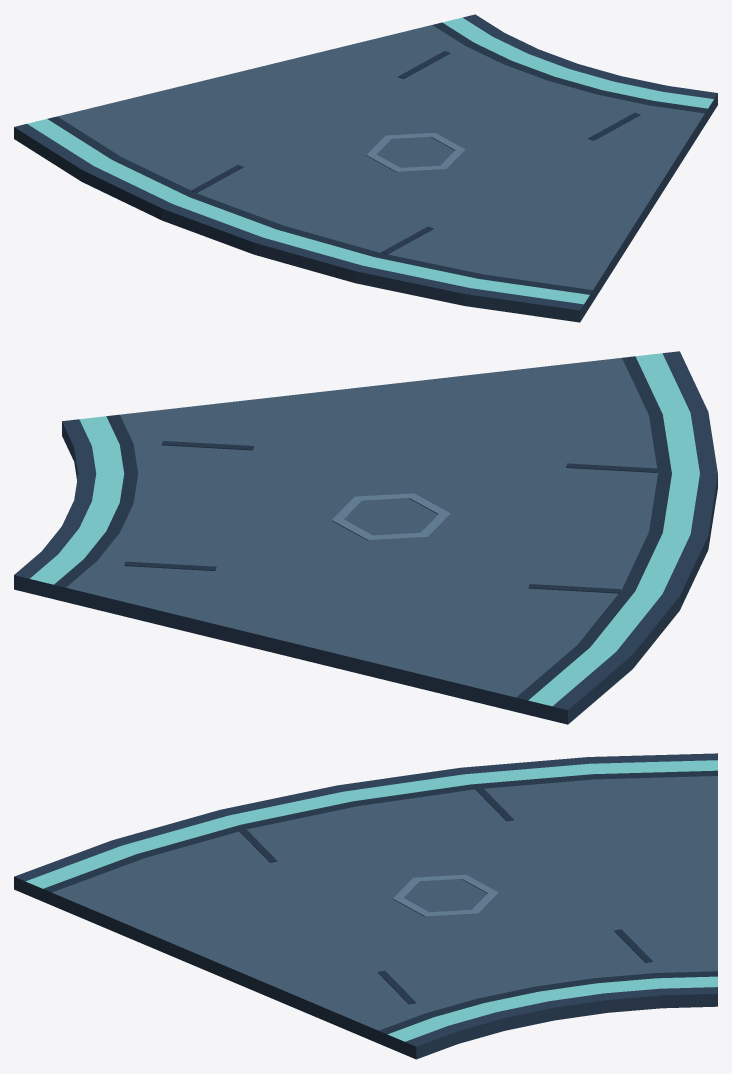
File: campus_walk_bend_45.glb
3 renders of one model, top to bottom at view 1: azimuth 30°, elevation 25°; view 2: azimuth 150°, elevation 25°; view 3: azimuth 270°, elevation 25°, orthographic. The views are drawn at different scales.
Parts seen in each view (by area): view 1: campus_walk_bend_45; view 2: campus_walk_bend_45; view 3: campus_walk_bend_45.
Part boxes in pixels (<box>): campus_walk_bend_45: <box>14,14,717,322</box>; campus_walk_bend_45: <box>14,351,717,724</box>; campus_walk_bend_45: <box>14,753,717,1059</box>.
Bounding box in the file's own units: 3.9 × 0.086 × 3.96.
Materials: 1 (1 with a texture image).
